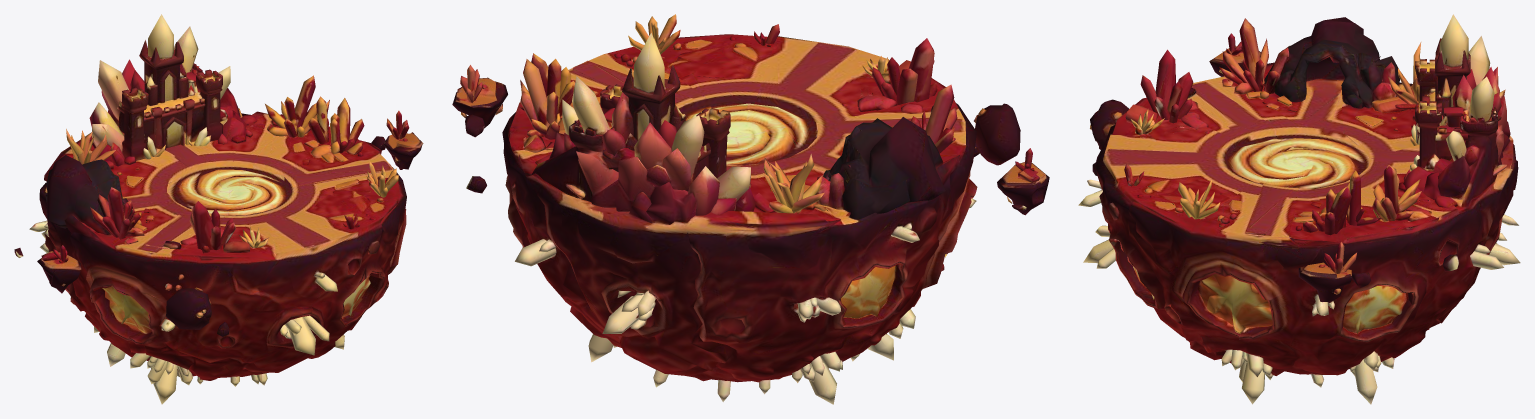
The model's file is Lava_Castle_Island.glb.
3 views of the same model, side by side, from view 1: azimuth 30°, elevation 25°; view 2: azimuth 150°, elevation 25°; view 3: azimuth 270°, elevation 25° (orthographic). The views are drawn at different scales.
Parts seen in each view (by area): view 1: Lava_Castle_Island; view 2: Lava_Castle_Island; view 3: Lava_Castle_Island.
Part boxes in pixels (box(x1,y1,x2,y2)): Lava_Castle_Island: box(14, 14, 423, 404); Lava_Castle_Island: box(452, 14, 1049, 404); Lava_Castle_Island: box(1078, 14, 1520, 404).
Bounding box in the file's own units: 0.9585 × 0.665 × 0.7651.
Materials: 1 (1 with a texture image).
